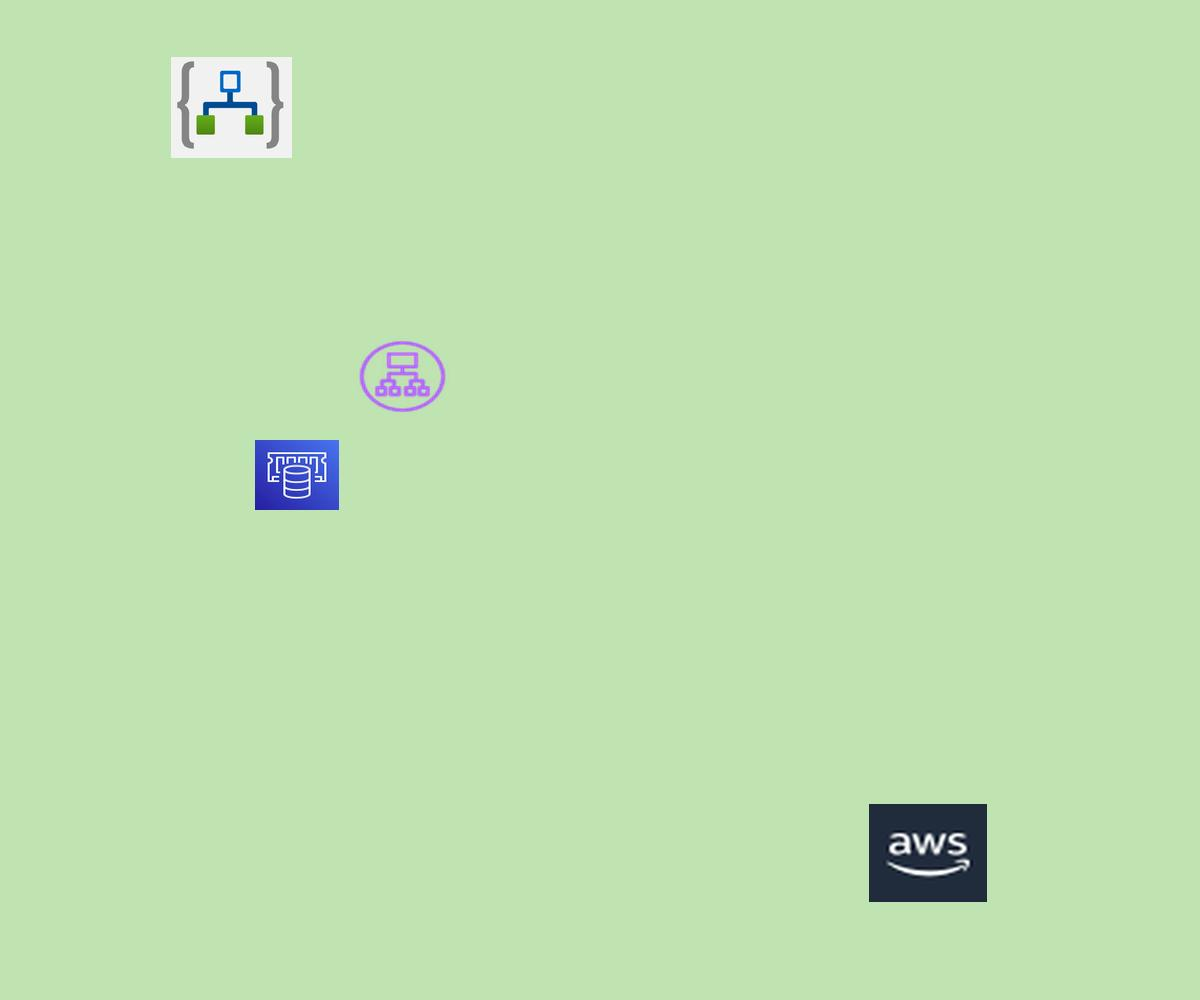AWS-Cloud-logo: (869, 804, 987, 902)
AWS-ElastiCache: (255, 440, 339, 510)
AWS-Res_Elastic-Load-Balancing_Application-Load-Balancer: (356, 338, 449, 415)
Azure_integration-204-Logic-Apps: (171, 57, 292, 158)
